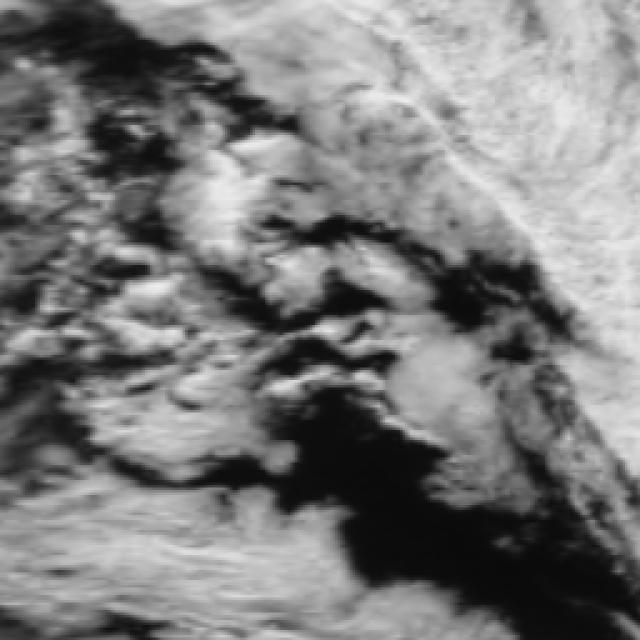CB: (479, 0, 640, 169)
